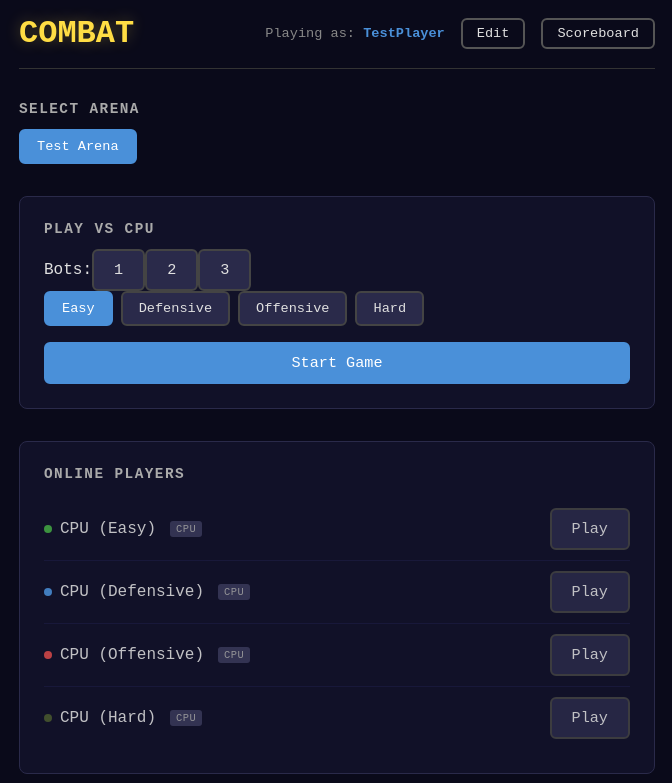
Test: LobbyPage › clicking Edit shows NameEntry form
Click the button "Edit" at coordinates (493, 34), box 461,18 -> 525,49
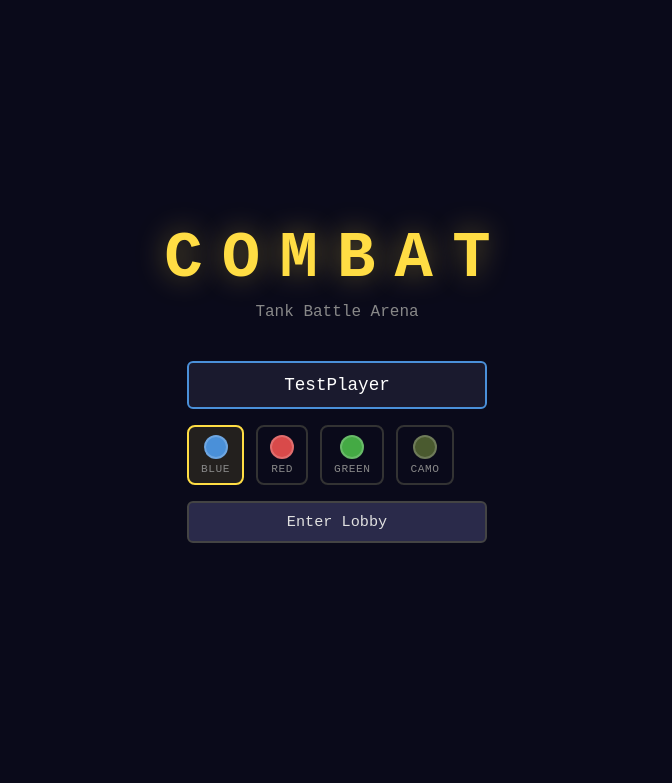
Result: the field with placeholder "Enter your name" is shown at 187,361 -> 487,409
